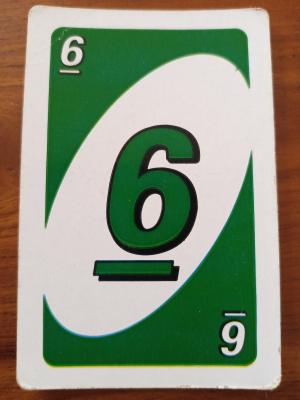green: (46, 32, 254, 372)
num_6: (206, 310, 256, 361), (52, 32, 97, 79)
